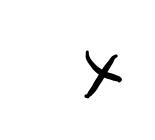mult: (83, 49, 124, 99)
